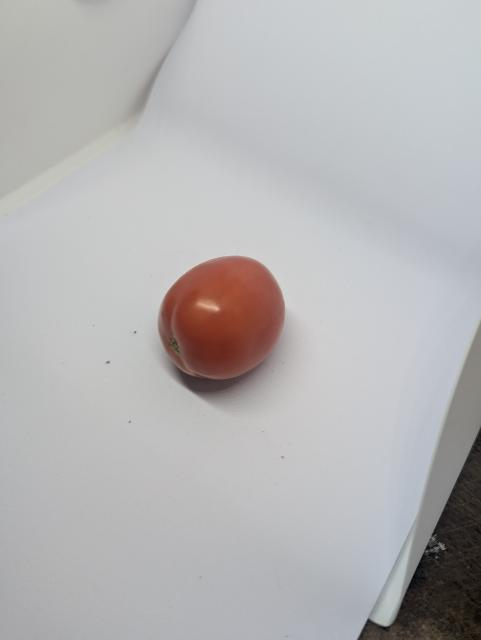red: (155, 254, 288, 384)
